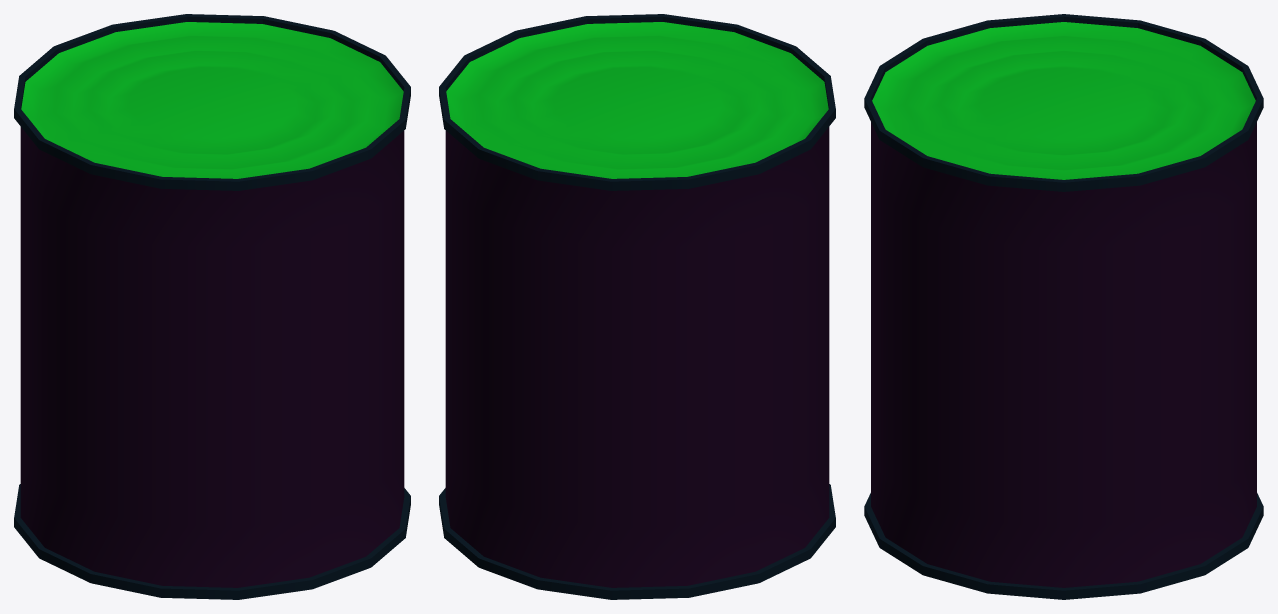
Rendered from Sweet Red Beans.fbx.
3 renders of one model, left to right at view 1: azimuth 30°, elevation 25°; view 2: azimuth 150°, elevation 25°; view 3: azimuth 270°, elevation 25°, orthographic.
Parts seen in each view (by area): view 1: Sweet Red Beans; view 2: Sweet Red Beans; view 3: Sweet Red Beans.
Boxes of the visible parts, x1,y1,x2,y2 form: Sweet Red Beans: (14,14,410,599); Sweet Red Beans: (439,14,835,599); Sweet Red Beans: (864,14,1263,599).
Bounding box in the file's own units: 28.67 × 28.67 × 33.06.
